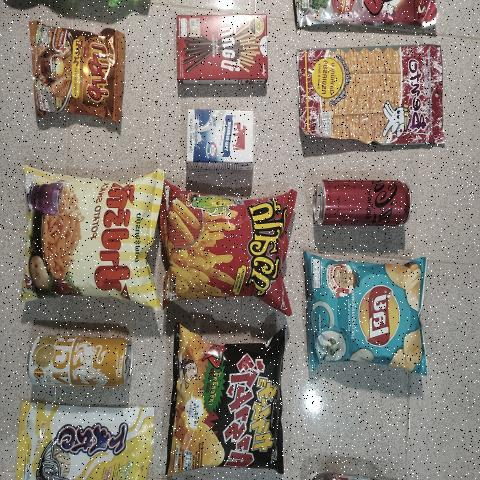bento_red: (297, 44, 441, 154)
coke_red: (312, 175, 414, 228)
karamujo: (173, 339, 283, 465)
lay_blue: (309, 260, 425, 366)
paprika: (21, 169, 160, 302)
pokki: (181, 17, 264, 74)
singha_yellow: (23, 329, 137, 390)
thai_denmark: (185, 111, 254, 186)
twisco: (172, 193, 286, 298)
